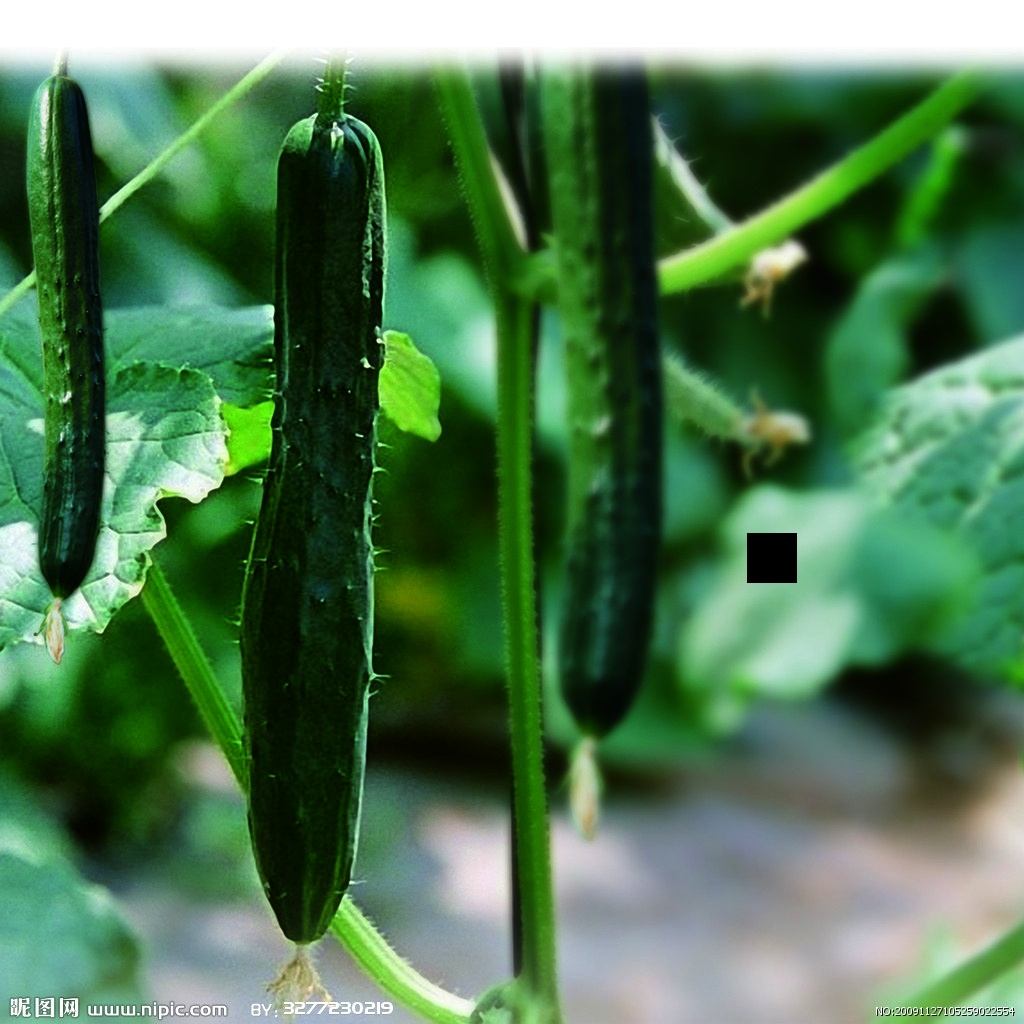cucumber: (227, 118, 405, 947), (20, 75, 118, 601)
